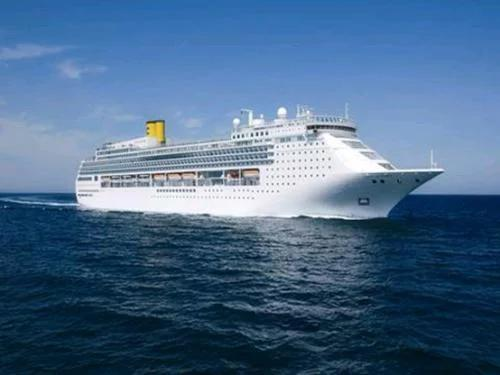youlun: (66, 100, 448, 220)
